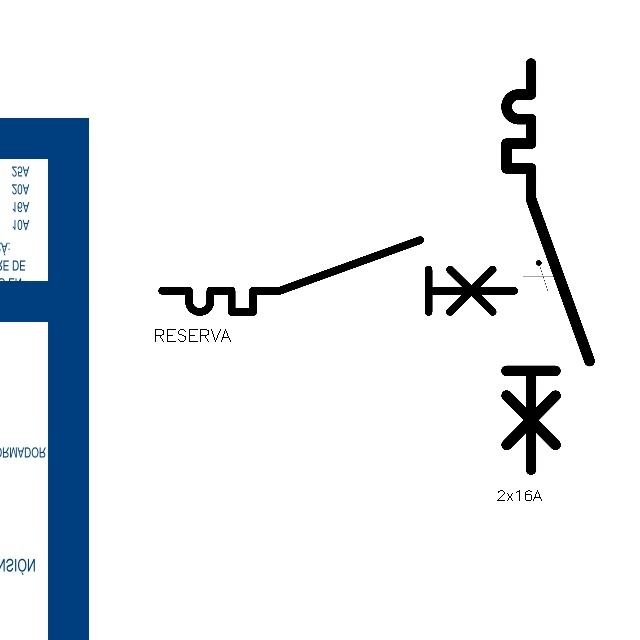interruptor_termomagnetico: (496, 53, 600, 479), (153, 231, 523, 321)
